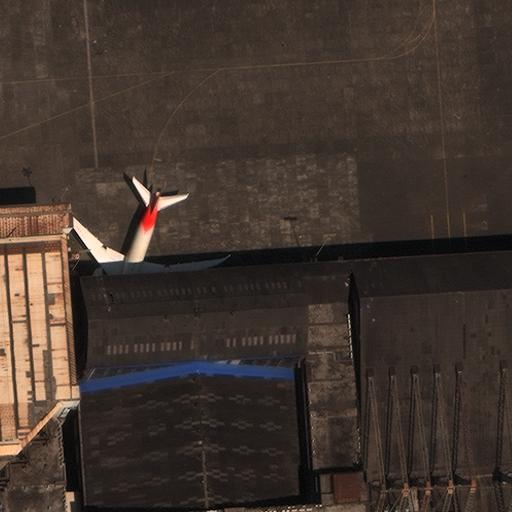Large Civil Transport: (72, 182, 225, 325)
